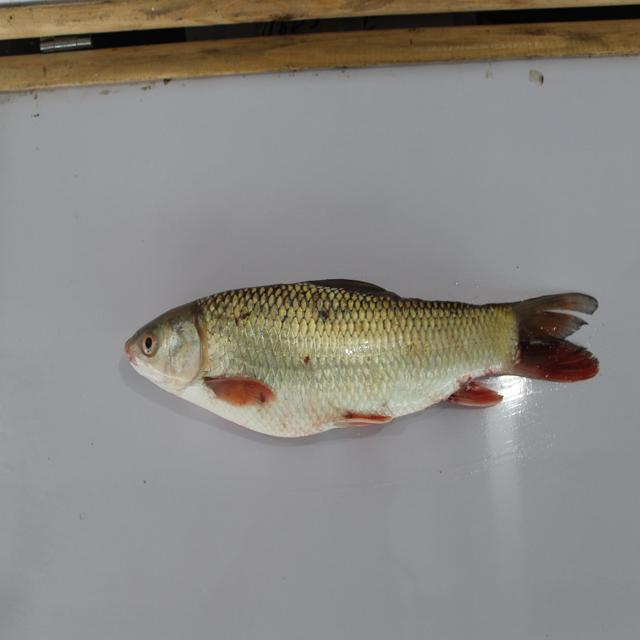Mori: (112, 268, 614, 494)
